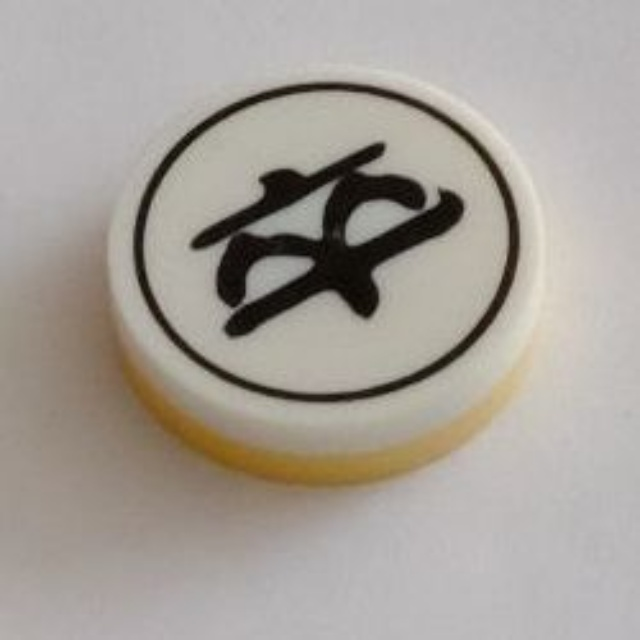black_chot: (89, 53, 564, 491)
